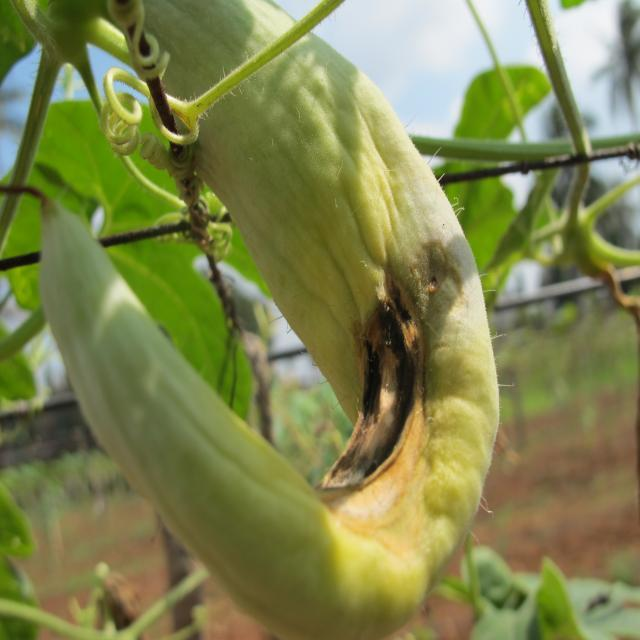Fruit fly: (309, 220, 493, 559)
